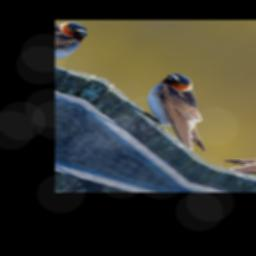Swallow: (122, 68, 249, 158)
